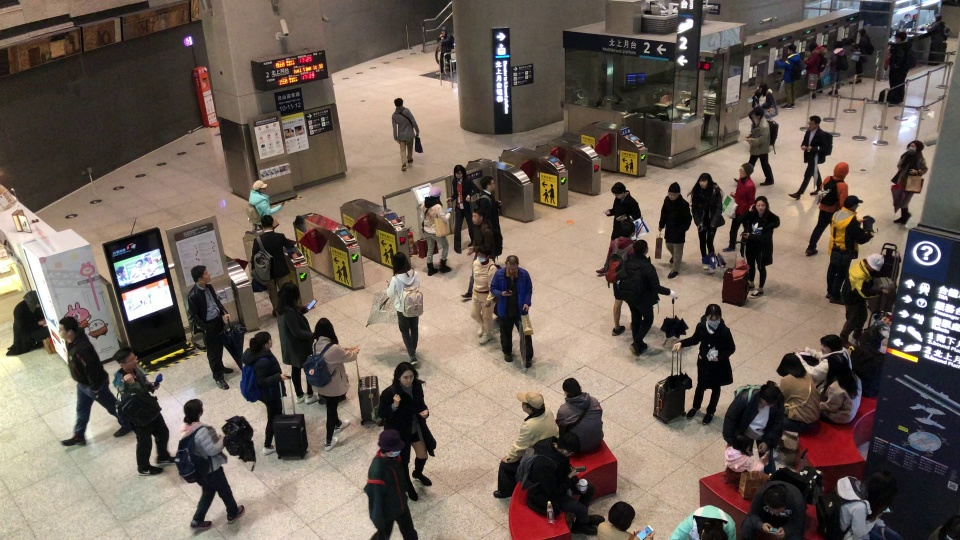person_head: (867, 468, 896, 503), (607, 499, 636, 530), (376, 428, 405, 458), (776, 352, 807, 379), (763, 485, 788, 515), (516, 390, 544, 415), (394, 360, 417, 389), (113, 346, 139, 371), (556, 432, 582, 457), (759, 382, 784, 408), (827, 354, 850, 380), (58, 315, 78, 340), (183, 398, 203, 423), (280, 281, 301, 304), (819, 333, 842, 354), (314, 316, 334, 338), (865, 252, 885, 274), (701, 523, 728, 539), (705, 302, 722, 327), (562, 377, 583, 397), (250, 331, 273, 349), (392, 251, 410, 274), (190, 263, 211, 282), (942, 518, 960, 540), (843, 193, 863, 212), (505, 254, 520, 277), (610, 181, 626, 201), (23, 289, 40, 307), (633, 238, 650, 256), (733, 435, 752, 451), (697, 172, 713, 190), (833, 161, 849, 179), (471, 208, 486, 227), (755, 194, 770, 213), (259, 213, 275, 230), (906, 139, 924, 154), (480, 175, 496, 191), (738, 162, 755, 177), (621, 221, 636, 238), (667, 181, 681, 199), (748, 107, 765, 121), (252, 179, 268, 192), (453, 164, 467, 178), (808, 115, 821, 130), (428, 186, 442, 198), (895, 31, 908, 42), (393, 96, 405, 107), (756, 82, 768, 92), (808, 40, 818, 51), (788, 43, 797, 54), (933, 13, 943, 22), (833, 40, 843, 48), (858, 27, 866, 36), (441, 26, 448, 35)
person_vbox: (56, 314, 133, 449), (173, 397, 245, 530), (514, 431, 605, 536), (376, 360, 438, 502), (111, 345, 177, 476), (671, 302, 736, 426), (301, 317, 360, 451), (614, 238, 677, 357), (491, 389, 559, 498), (738, 464, 823, 540), (361, 427, 418, 540), (239, 330, 290, 456), (814, 467, 902, 540), (184, 264, 234, 391), (722, 380, 783, 477), (274, 282, 319, 405), (823, 194, 872, 304), (773, 352, 821, 460), (489, 254, 534, 368), (766, 335, 852, 391), (384, 251, 424, 366), (594, 180, 642, 275), (838, 252, 885, 348), (804, 161, 849, 256), (251, 213, 294, 311), (686, 172, 725, 276), (741, 194, 780, 297), (459, 207, 502, 300), (786, 115, 833, 199), (555, 376, 605, 453), (604, 221, 636, 337), (733, 107, 778, 186), (658, 180, 692, 279), (444, 164, 481, 254), (819, 353, 863, 427), (720, 162, 756, 252), (890, 140, 928, 224), (419, 185, 453, 276), (4, 290, 48, 357), (474, 174, 505, 261), (667, 503, 737, 540), (596, 499, 655, 540), (390, 96, 421, 172), (888, 32, 918, 102), (723, 434, 766, 481), (775, 43, 805, 110), (245, 180, 284, 229), (847, 26, 874, 85), (748, 82, 778, 134), (803, 39, 827, 101), (826, 40, 848, 98), (435, 25, 455, 73), (926, 517, 959, 540), (926, 13, 951, 43)
